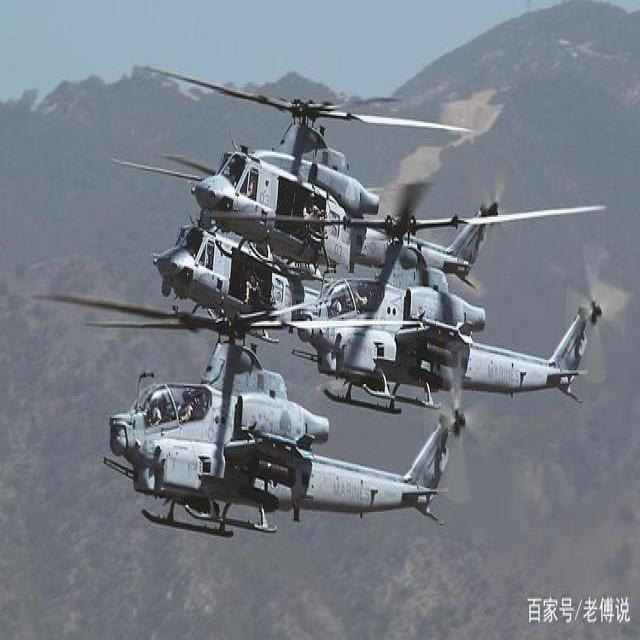MIL_HELO: (41, 275, 470, 554), (137, 42, 517, 298), (200, 190, 618, 411)
